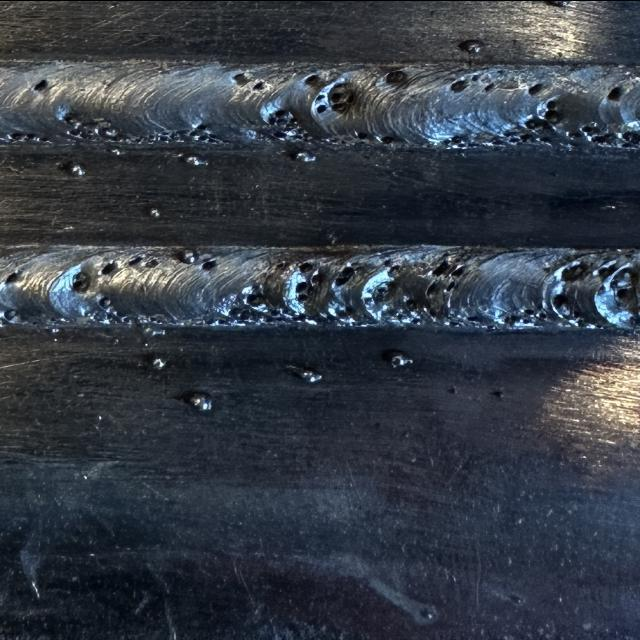Porosity: (312, 76, 353, 115), (138, 124, 226, 142), (63, 114, 123, 140), (85, 308, 172, 324), (265, 109, 308, 140), (600, 125, 639, 148), (362, 276, 391, 306), (608, 262, 638, 289), (328, 82, 353, 112), (242, 284, 268, 311), (537, 95, 562, 122), (500, 124, 532, 144), (550, 292, 570, 318), (0, 132, 52, 142), (437, 134, 473, 148), (332, 265, 355, 286), (583, 130, 614, 145), (218, 305, 250, 319), (0, 266, 22, 284), (70, 271, 89, 291), (517, 309, 537, 328), (593, 261, 612, 279), (295, 280, 309, 301), (268, 308, 292, 320), (95, 292, 111, 309), (433, 259, 451, 274), (522, 114, 540, 129), (230, 70, 248, 85), (302, 72, 320, 86), (580, 121, 598, 135), (450, 78, 468, 91), (607, 86, 622, 101), (310, 269, 322, 286), (332, 308, 352, 318), (312, 101, 327, 114), (565, 128, 582, 139), (100, 261, 114, 274), (528, 82, 542, 95), (3, 309, 17, 321), (385, 266, 397, 280), (377, 135, 395, 144), (33, 79, 47, 90), (143, 258, 158, 268), (298, 261, 312, 271), (390, 312, 405, 321), (452, 262, 462, 275), (252, 80, 265, 90), (353, 130, 367, 139), (128, 256, 143, 264), (202, 260, 215, 269), (483, 82, 495, 91), (446, 281, 456, 291), (405, 296, 415, 305), (469, 74, 478, 84), (412, 316, 422, 324), (467, 315, 479, 321), (447, 320, 458, 326), (537, 311, 545, 319)
Spatters: (287, 364, 322, 381), (382, 349, 412, 366), (415, 604, 438, 624), (188, 391, 212, 410), (173, 248, 199, 264), (457, 39, 482, 52), (185, 155, 208, 165), (295, 151, 316, 161), (508, 594, 524, 605), (152, 358, 167, 369), (72, 164, 85, 175), (112, 148, 125, 155), (172, 149, 184, 156), (150, 208, 160, 216), (447, 386, 456, 392)
